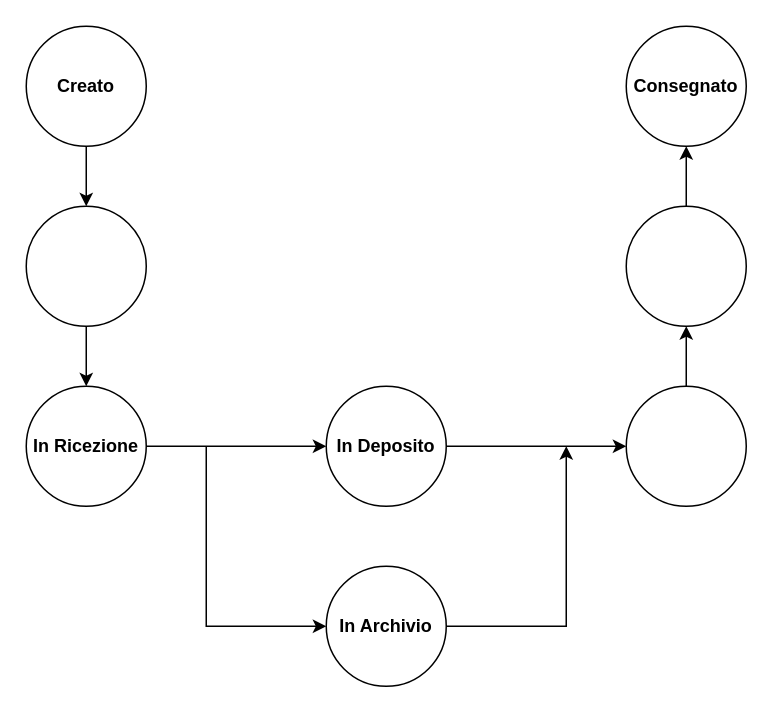
The diagram is 773 pixels wide and 713 high, and some of its shapes have lost their labels. Each missing label, with the centre of its shape:
"Pronto per la ricezione" goes at (x=85, y=265).
"Pronto per la Spedizione" goes at (x=685, y=445).
"Spedito" goes at (x=685, y=265).
